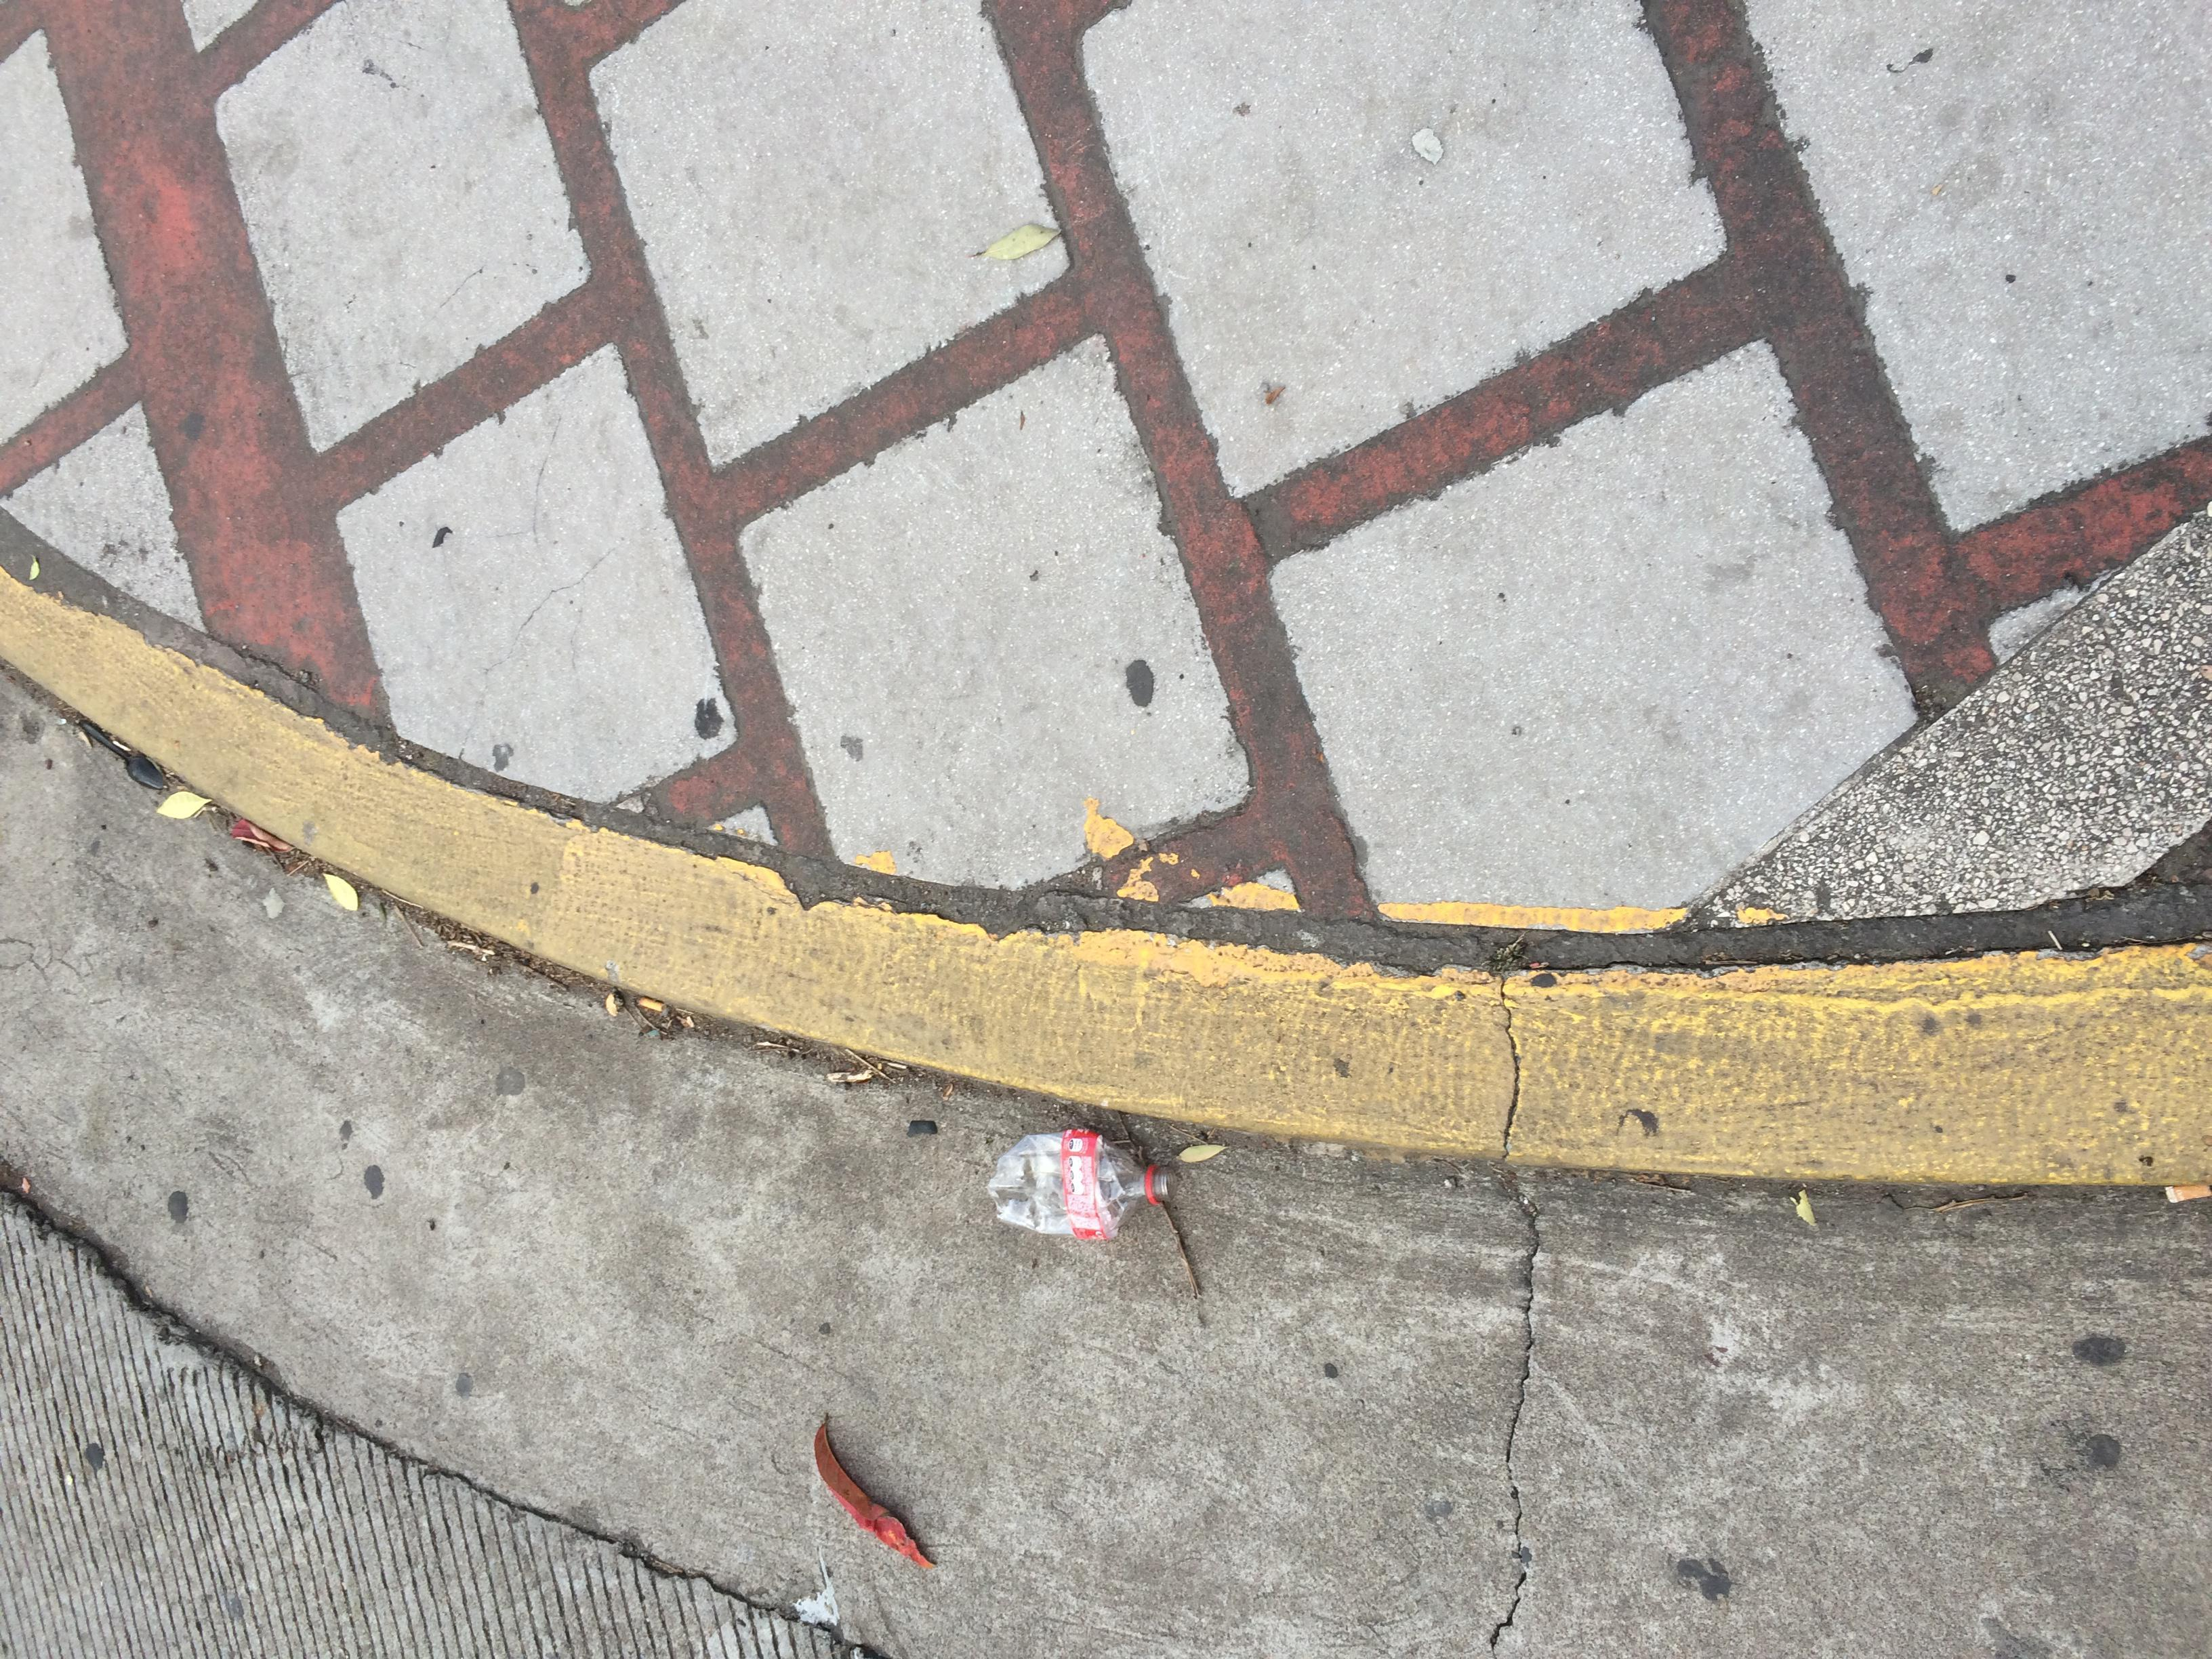bottle: (449, 666, 707, 884)
